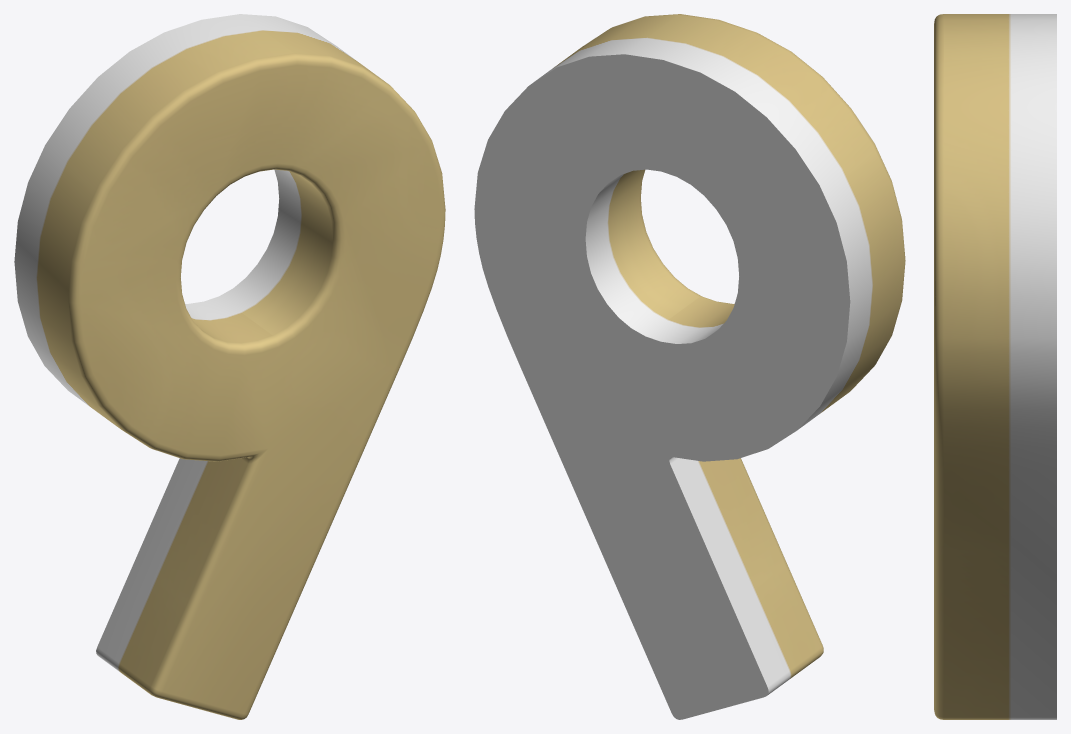
Rendered from LettersLightUp01_9.FBX.
The picture shows the model from 3 angles, left to right: view 1: azimuth 30°, elevation 25°; view 2: azimuth 150°, elevation 25°; view 3: azimuth 270°, elevation 25°; orthographic projection. The views are drawn at different scales.
Parts seen in each view (by area): view 1: LettersLightUp01_9; view 2: LettersLightUp01_9; view 3: LettersLightUp01_9.
Boxes of the visible parts, x1=… form: LettersLightUp01_9: x1=14, y1=14, x2=445, y2=719; LettersLightUp01_9: x1=474, y1=14, x2=905, y2=719; LettersLightUp01_9: x1=934, y1=14, x2=1056, y2=719.
Size of what is drawn, in the model's own units: 0.3765 by 0.628 by 0.1012.
